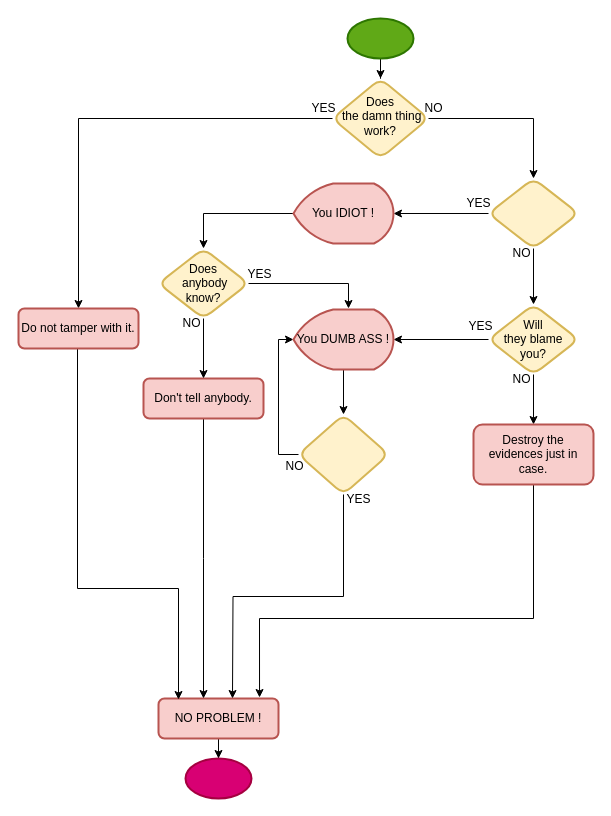
The diagram is 611 pixels wide and 816 high, and some of its shapes have lost their labels. The centre of each missing label's shape, as x and y in pixels:
"Can you blame somebody else?" belongs at point 343,454.
"Did you touched it?" belongs at point 533,213.
"START" belongs at point 380,38.
"STOP" belongs at point 218,778.
